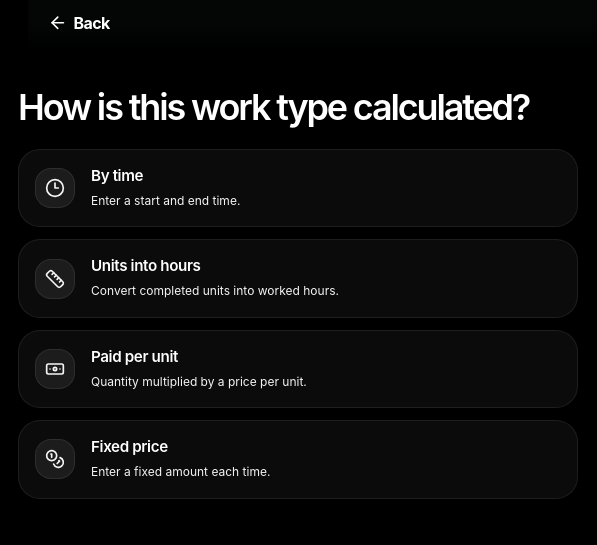
Test: WorkTypeEditorPage › shows duplicate name conflicts next to the name field and preserves form values
The image size is (597, 545).
Click the button "By time Enter a start and end time.": (55, 188) [18,149,578,227]
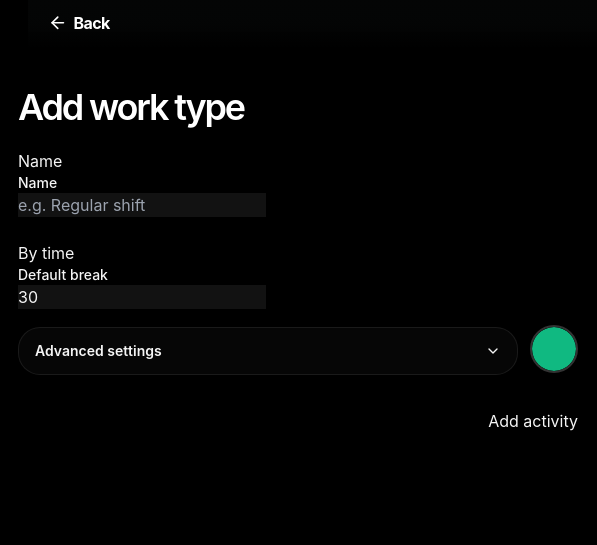
In the field labelled "Name": (142, 205) [18,193,266,217], type "Check"
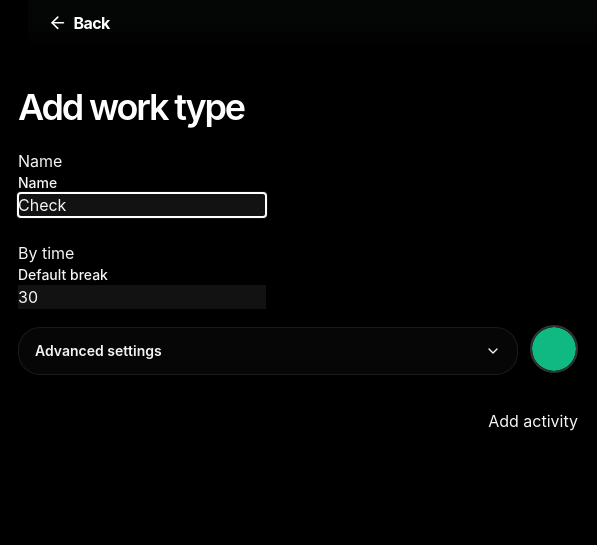
Click the button "Add activity": (533, 421) [488,409,578,433]
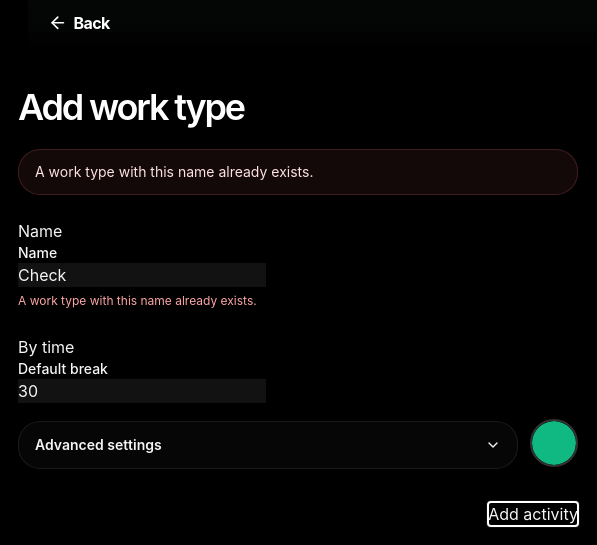
Expected: the text "A work type with this name already exists." is shown 2 times, [18,149,578,195]; [18,293,257,308]
